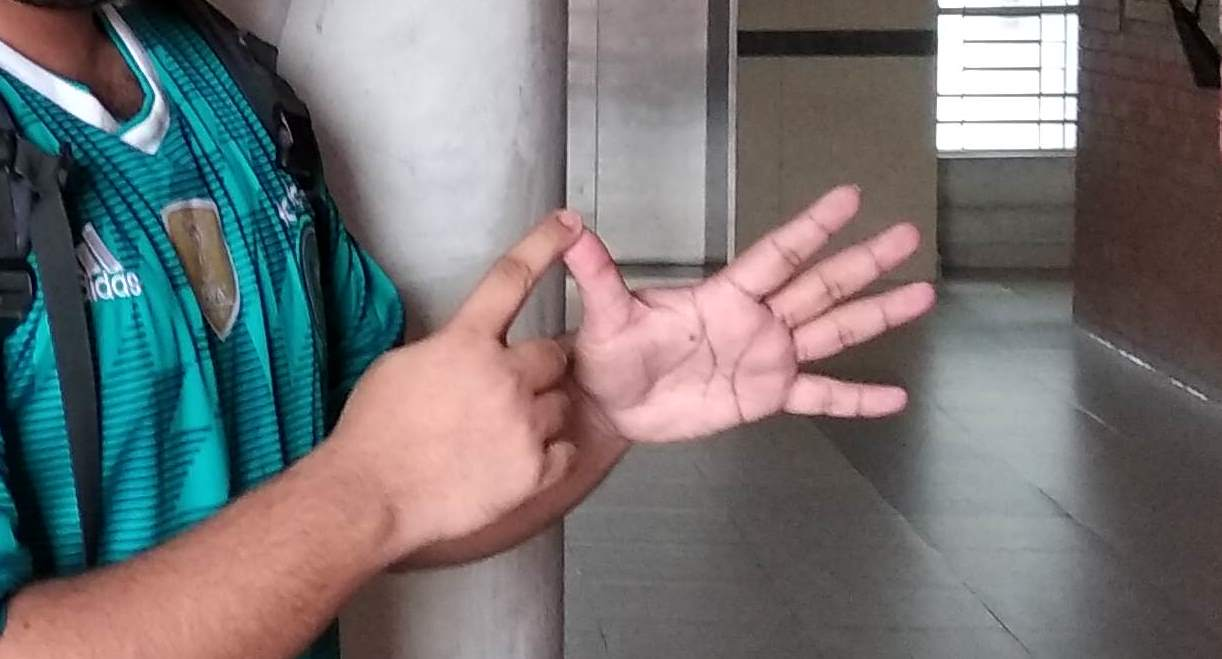a: (467, 201, 900, 491)
